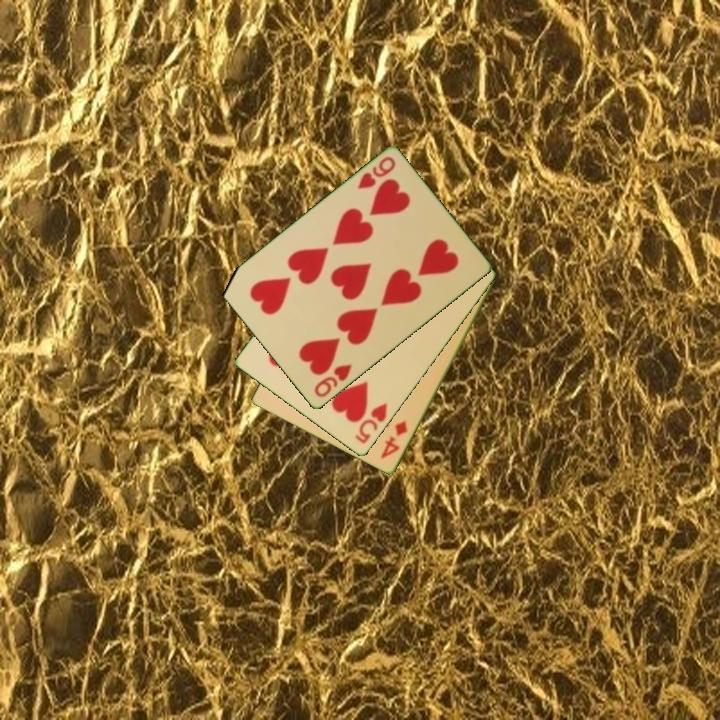4d: (377, 417, 411, 462)
5h: (351, 400, 390, 447)
9h: (310, 361, 355, 401), (354, 153, 399, 192)
